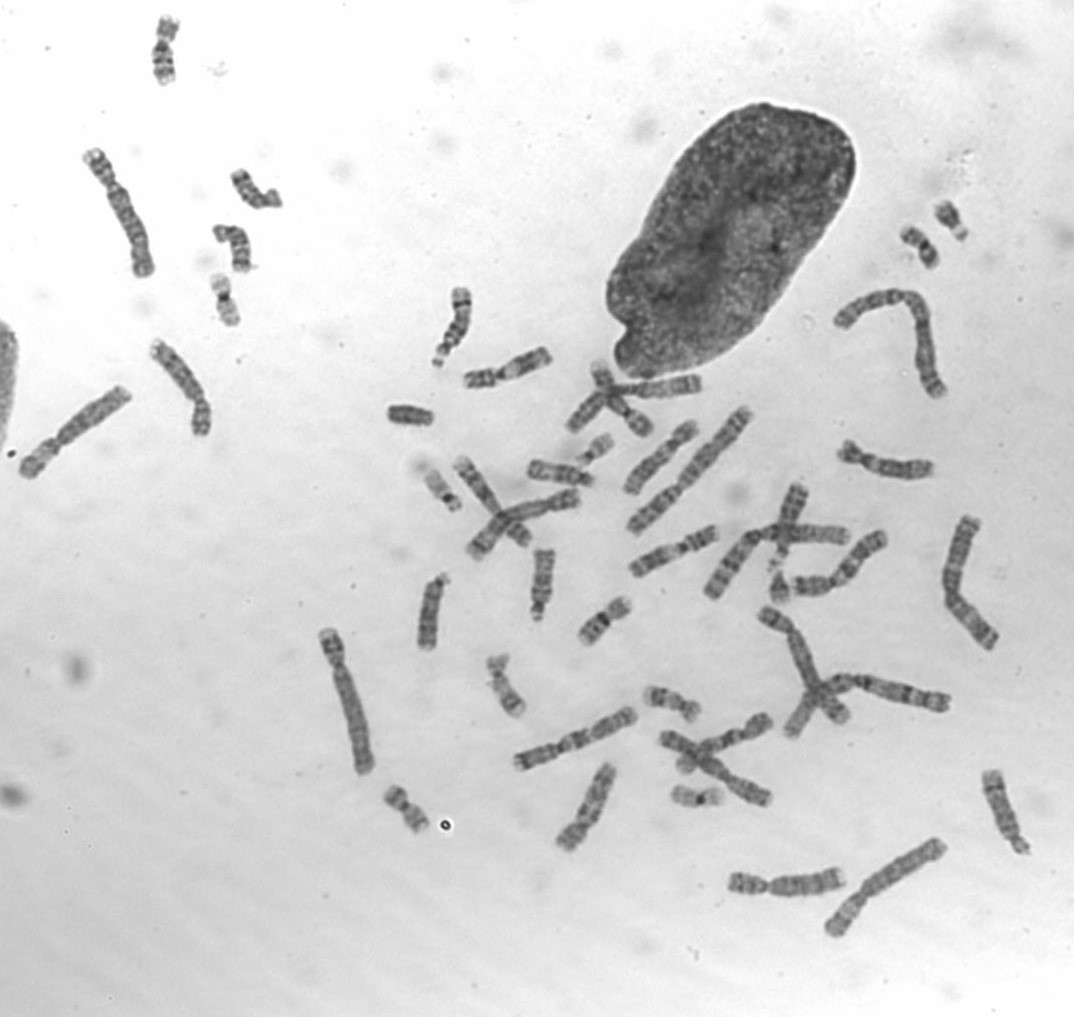chromosomes: (619, 398, 759, 539), (815, 839, 955, 943), (696, 520, 860, 608), (782, 667, 956, 746), (833, 285, 949, 402), (11, 377, 136, 485), (753, 602, 851, 728), (655, 724, 783, 813), (78, 145, 159, 284), (312, 623, 380, 780), (937, 506, 1006, 659), (502, 704, 643, 776), (563, 370, 708, 435), (463, 489, 588, 564), (449, 446, 536, 550), (667, 705, 779, 776), (792, 527, 897, 600), (149, 336, 219, 440), (618, 418, 704, 500), (553, 759, 620, 860), (621, 522, 725, 584), (720, 858, 853, 901), (584, 359, 654, 440), (759, 474, 813, 579), (458, 341, 558, 395), (981, 766, 1036, 863), (833, 437, 938, 484), (429, 283, 478, 374), (412, 569, 458, 657), (573, 593, 638, 649), (482, 652, 531, 719), (148, 12, 186, 90), (641, 682, 708, 726), (379, 785, 430, 842), (229, 166, 286, 216), (527, 542, 561, 625), (523, 457, 601, 490), (419, 464, 468, 516), (205, 271, 246, 331), (894, 221, 944, 270), (213, 218, 253, 277), (928, 199, 975, 245), (666, 780, 726, 812), (572, 428, 618, 468), (387, 400, 438, 432), (763, 565, 795, 611)
